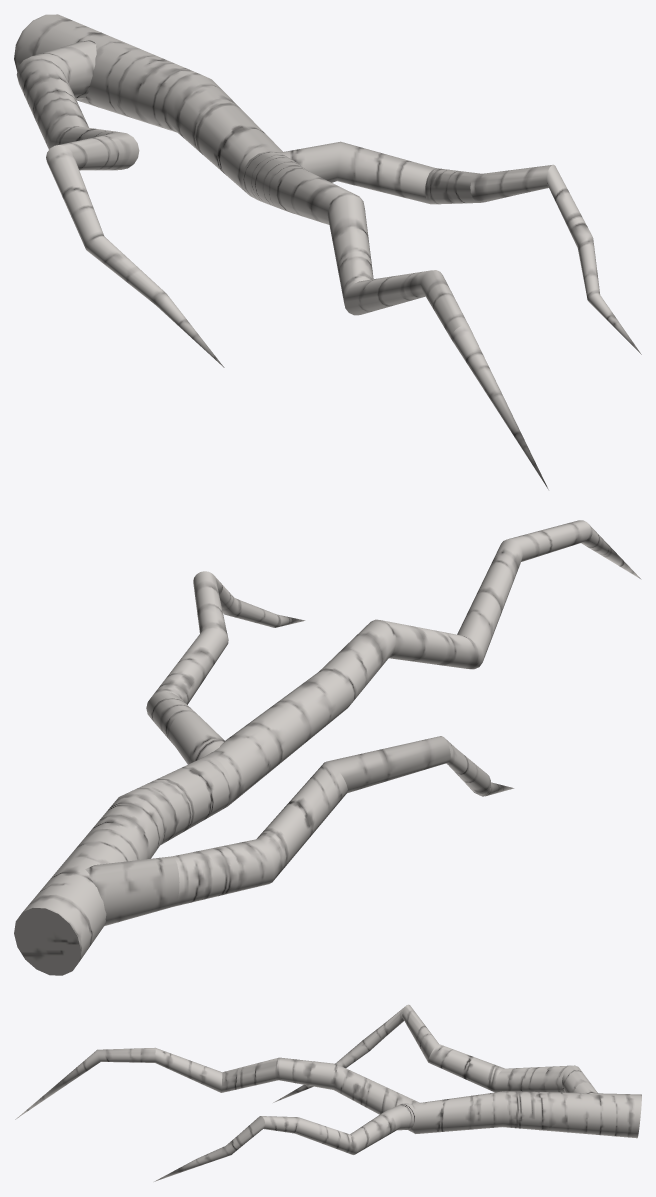
The model's file is Sm_Branches7L.fbx.
3 views of the same model, one above another, from view 1: azimuth 30°, elevation 25°; view 2: azimuth 150°, elevation 25°; view 3: azimuth 270°, elevation 25° (orthographic). The views are drawn at different scales.
Visible parts, largest first — view 1: Sm_Branches7L; view 2: Sm_Branches7L; view 3: Sm_Branches7L.
Boxes of the visible parts, x1=… form: Sm_Branches7L: x1=14, y1=14, x2=641, y2=489; Sm_Branches7L: x1=14, y1=520, x2=641, y2=975; Sm_Branches7L: x1=15, y1=1004, x2=641, y2=1181.
Bounding box in the file's own units: 51.89 × 19.06 × 127.
